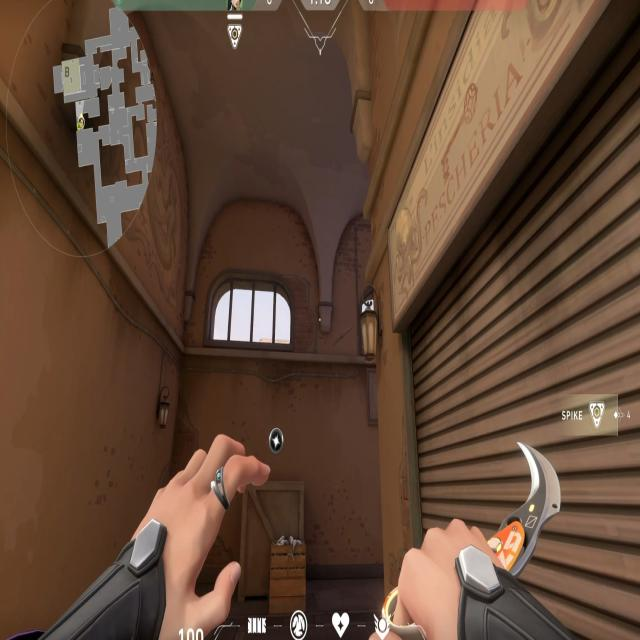B_Main_Wallbang: (230, 412, 318, 633)
Throwables: (200, 263, 305, 366)
